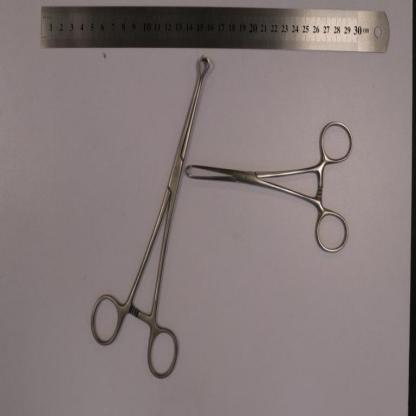8 Babcock Tissue Forceps: (90, 54, 212, 382)
Allis Tissue Forceps: (186, 119, 354, 258)
